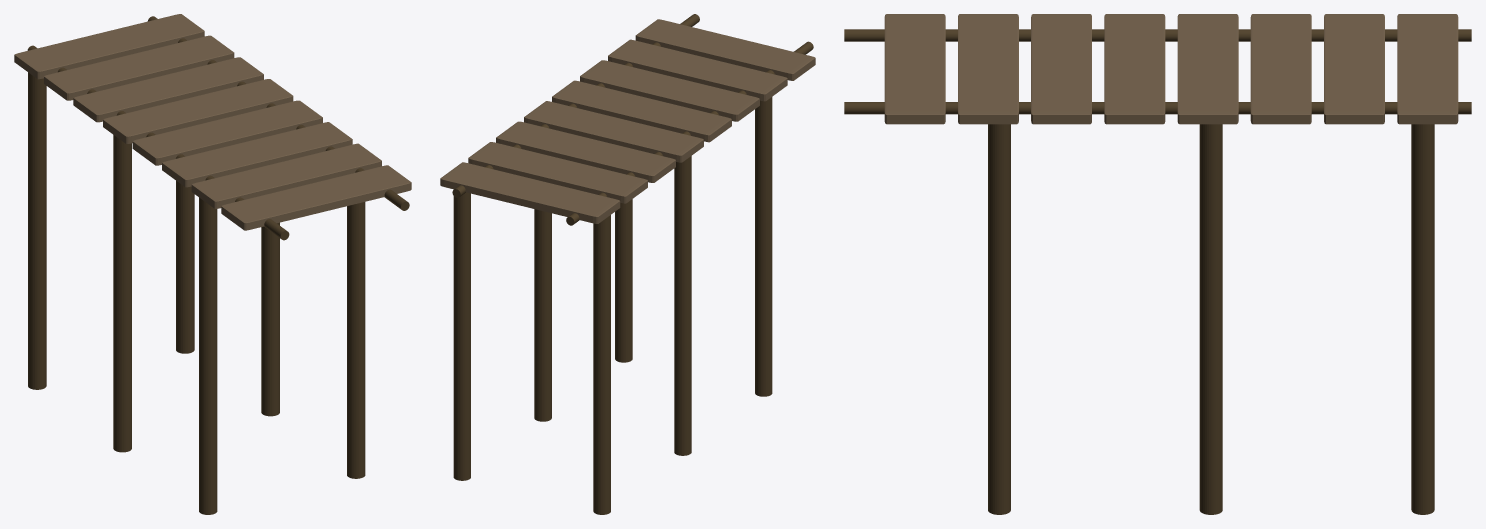
File: LakePlatform2.fbx
3 views of the same model, side by side, from view 1: azimuth 30°, elevation 25°; view 2: azimuth 150°, elevation 25°; view 3: azimuth 270°, elevation 25° (orthographic). The views are drawn at different scales.
Parts seen in each view (by area): view 1: Cube.001; view 2: Cube.001; view 3: Cube.001.
Boxes of the visible parts, <box> form: Cube.001: <box>14,14,411,514</box>; Cube.001: <box>440,14,815,514</box>; Cube.001: <box>844,14,1471,514</box>.
Size of the model in its own units: 226 by 418 by 593.
